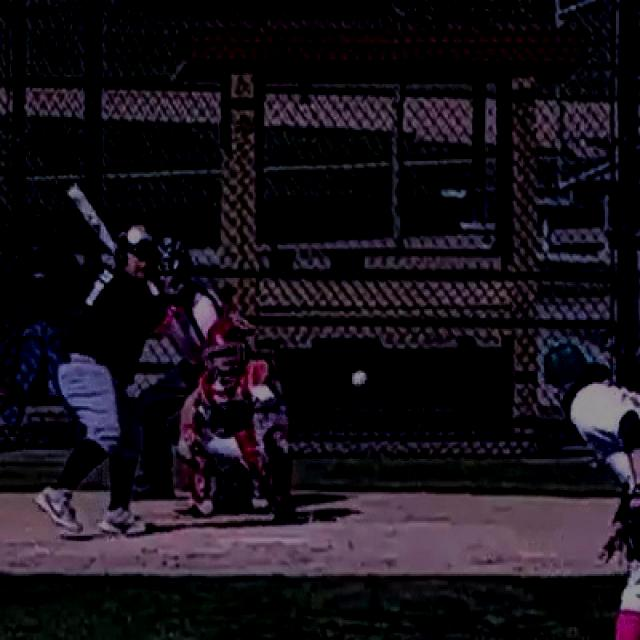ball: (349, 370, 368, 390)
